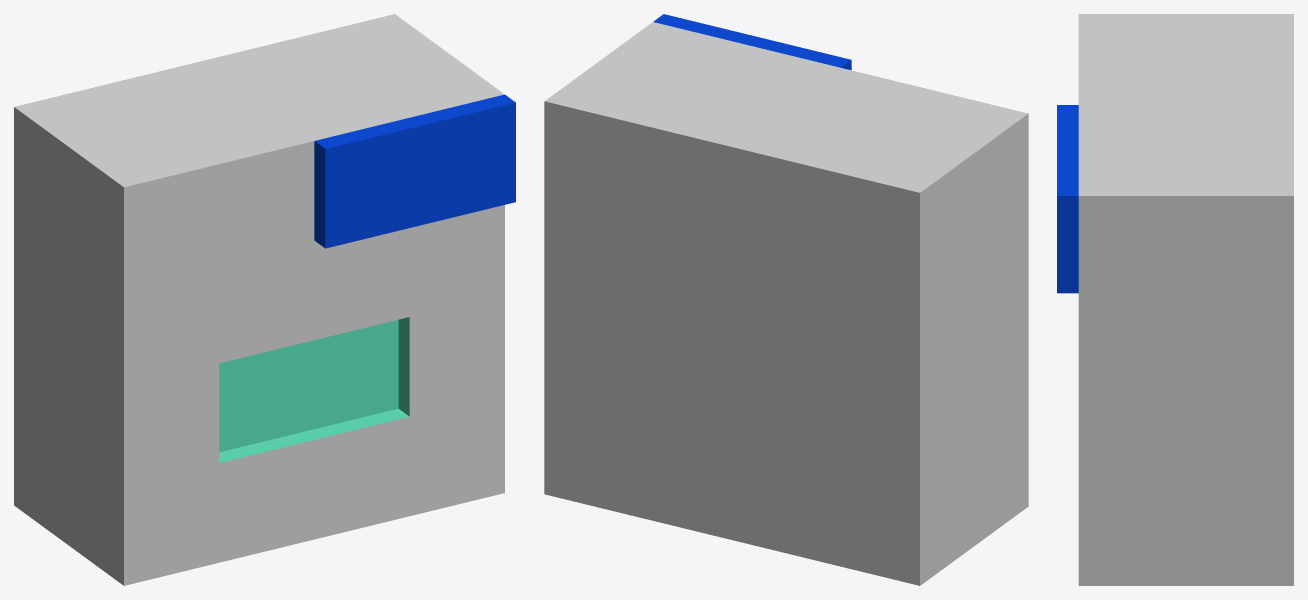
Rendered from Wall2_2x2.fbx.
The picture shows the model from 3 angles, left to right: view 1: azimuth 30°, elevation 25°; view 2: azimuth 150°, elevation 25°; view 3: azimuth 270°, elevation 25°; orthographic projection. The views are drawn at different scales.
Parts seen in each view (by area): view 1: Wall2 2x2; view 2: Wall2 2x2; view 3: Wall2 2x2.
Part boxes in pixels (x1,y1,x2,y2): Wall2 2x2: (14,14,515,585); Wall2 2x2: (544,14,1028,585); Wall2 2x2: (1057,14,1293,585).
Size of the model in its own units: 200 by 200 by 110.
